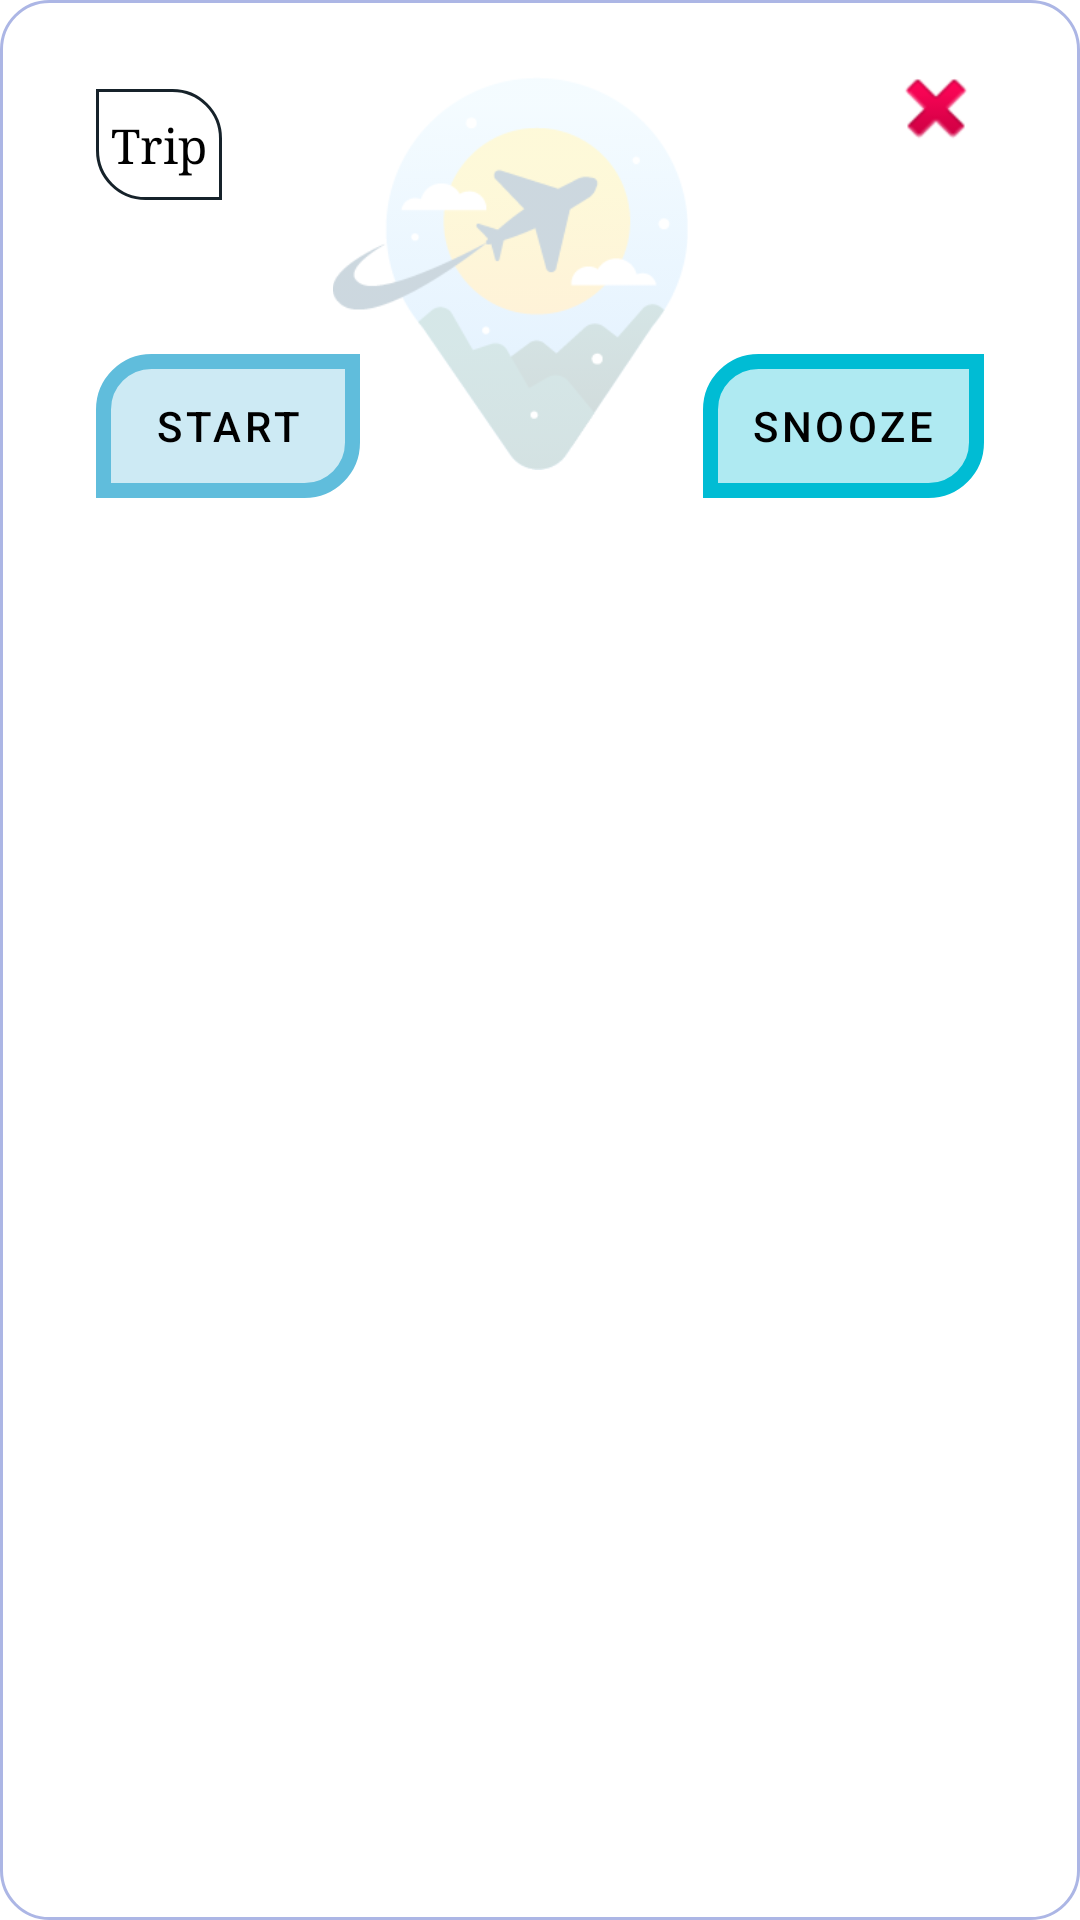

Point at icon controls on the screen. Image size 1080*1920, points as [x,y].
delete: [936,108]
